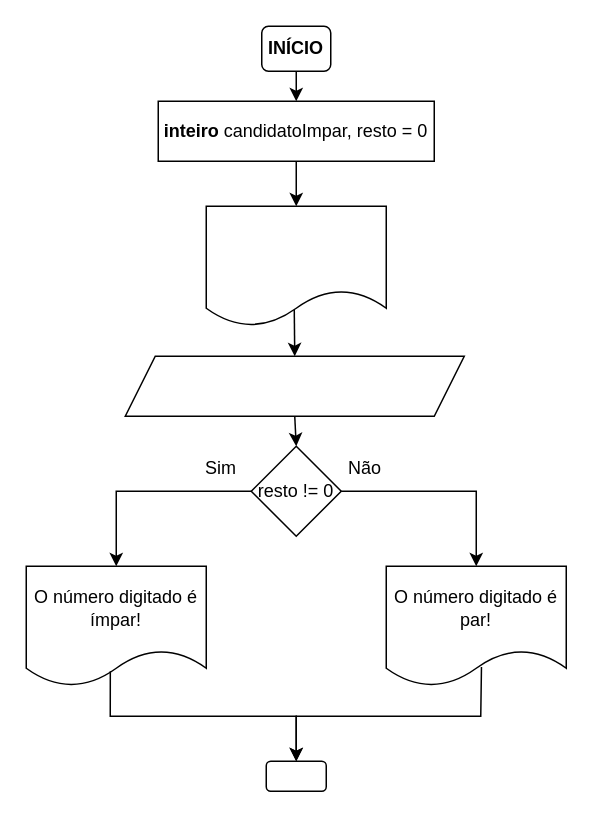
Image size: 593x818. Some labels were removed from this diagram. Each missing label, with the centre of its shape:
candidatoImpar = recebe a respotas resto = candidatoImpar % 2: (x=294, y=385)
Digite o valor para a verificação: (x=295, y=265)
FIM: (x=295, y=775)
